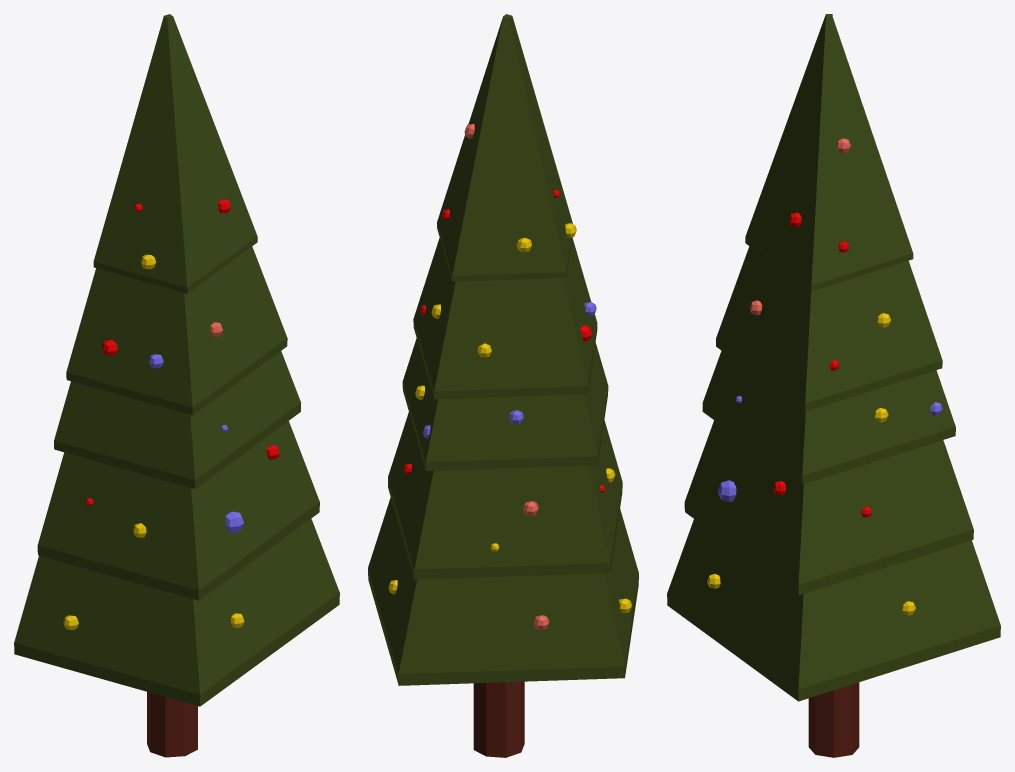
Rendered from tree.fbx.
The picture shows the model from 3 angles, left to right: view 1: azimuth 30°, elevation 25°; view 2: azimuth 150°, elevation 25°; view 3: azimuth 270°, elevation 25°; orthographic projection.
Parts seen in each view (by area): view 1: Plane.004, Plane, Cube.004; view 2: Plane.004, Plane, Cube.004; view 3: Plane.004, Plane, Cube.004.
Boxes of the visible parts, x1,y1,x2,y2 form: Plane.004: [14, 14, 339, 706]; Plane: [147, 692, 197, 757]; Cube.004: [63, 199, 279, 629]; Plane.004: [368, 14, 638, 685]; Plane: [473, 681, 524, 757]; Cube.004: [388, 124, 631, 629]; Plane.004: [667, 14, 1000, 701]; Plane: [808, 682, 859, 757]; Cube.004: [707, 138, 942, 615].
Bounding box in the file's own units: 659 × 1582 × 657.
